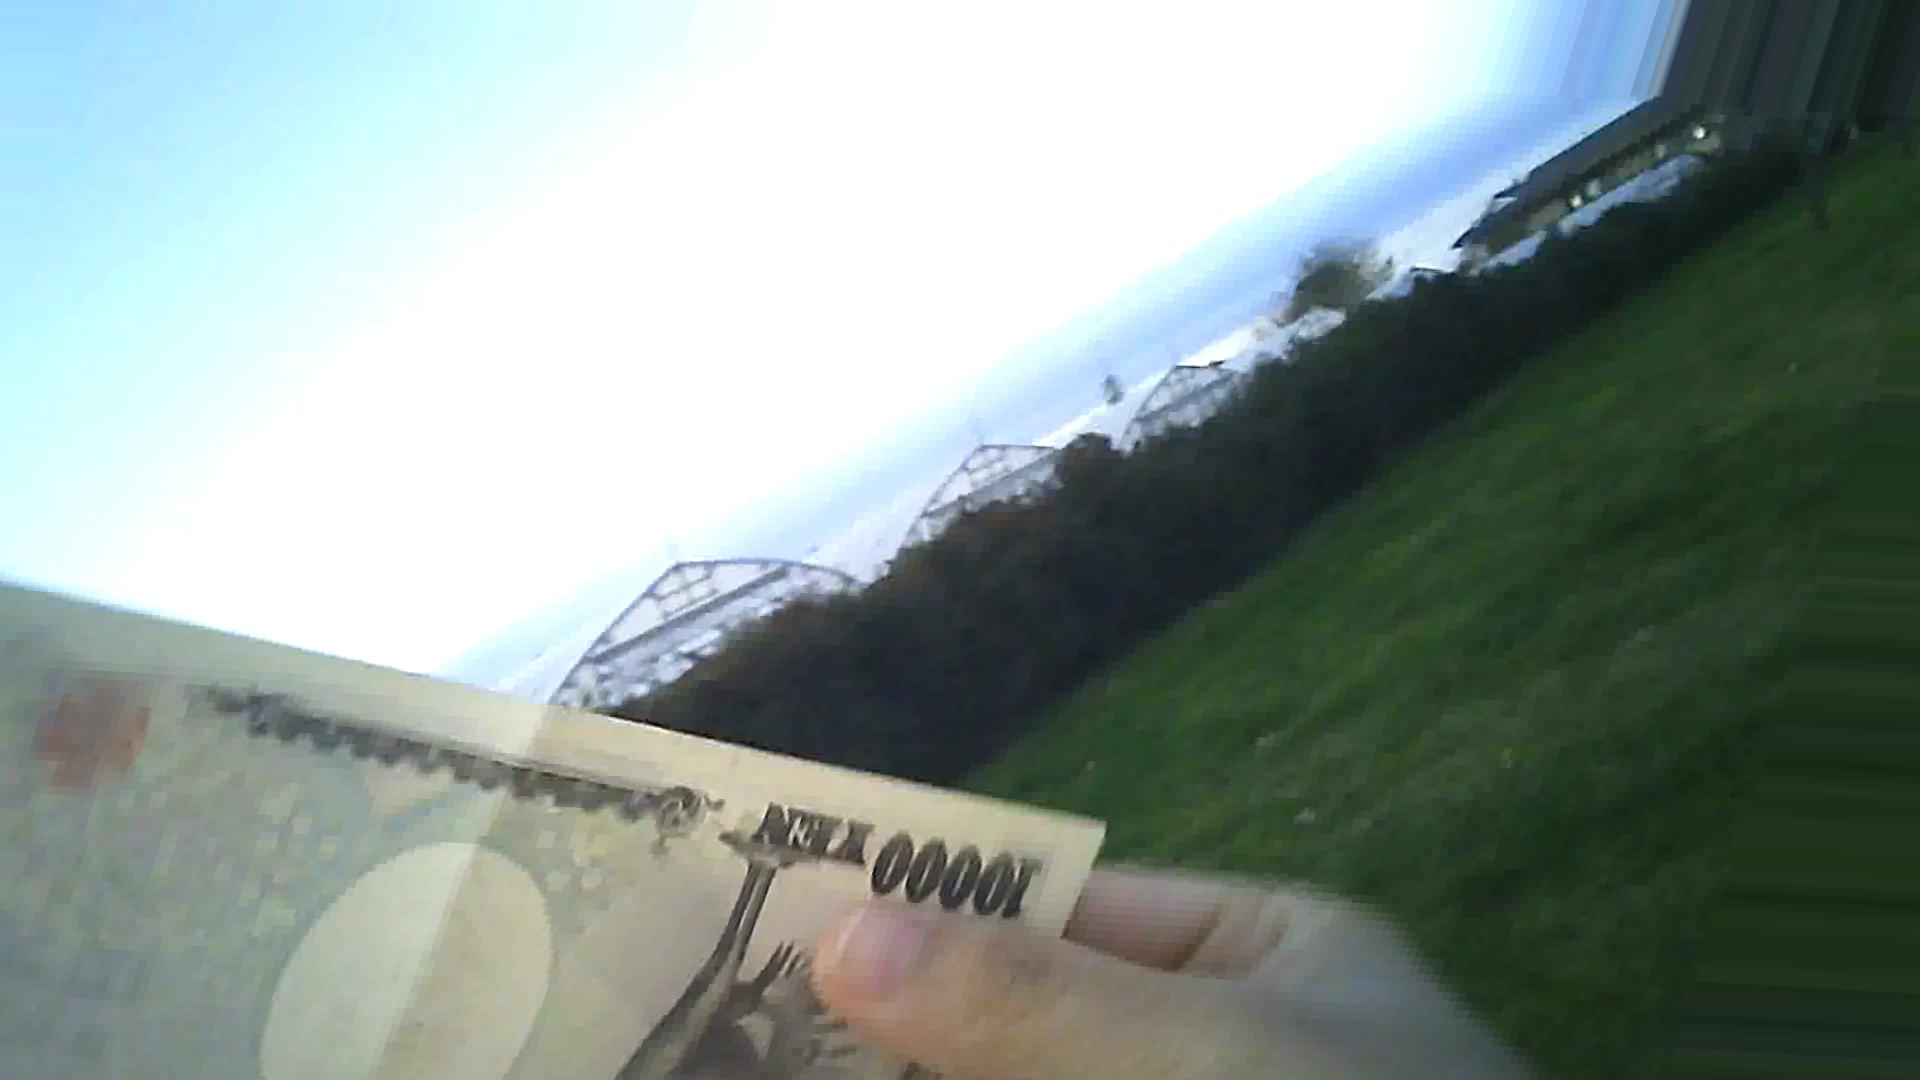10,000 Yen: (3, 545, 1102, 1075)
